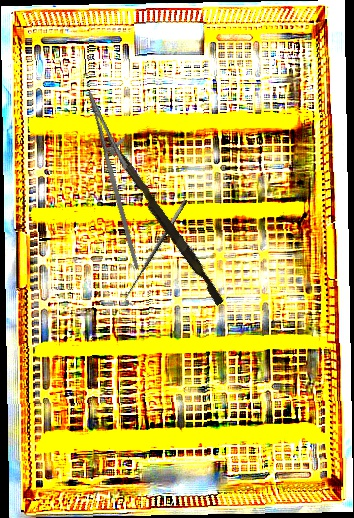Hook Surgical: (119, 198, 196, 307)
Needle Holder: (66, 85, 173, 271)
Pusher: (99, 135, 229, 307)
